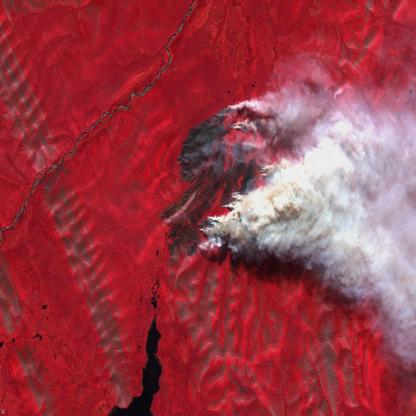fire: (163, 102, 285, 261)
